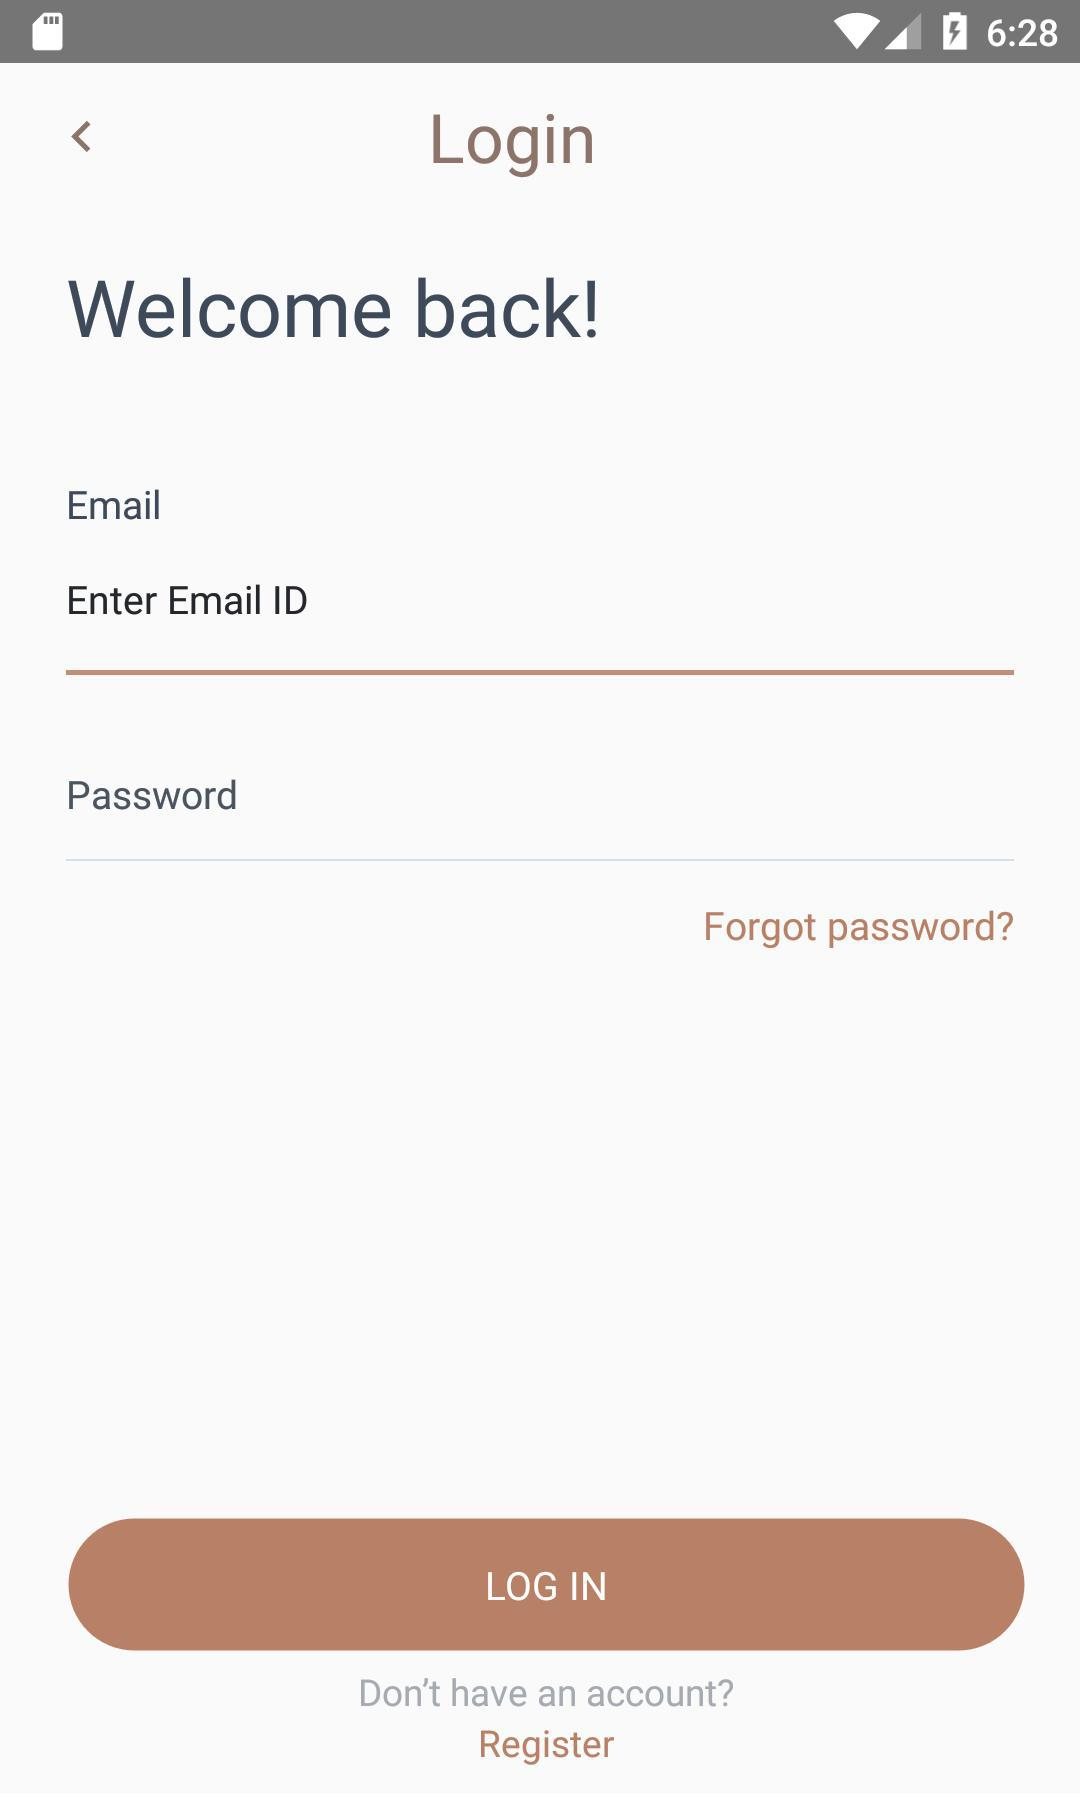EditText: (65, 584, 1015, 677), (67, 779, 1015, 862)
Icon: (72, 120, 92, 152)
Text: (68, 277, 597, 340), (706, 910, 1013, 950), (361, 1677, 735, 1708), (433, 114, 593, 179), (70, 583, 307, 615), (480, 1727, 615, 1766), (69, 780, 237, 811), (69, 490, 161, 522)
TextButton: (69, 1518, 1025, 1650)
UpperTaskBar: (1, 1, 1080, 64)
